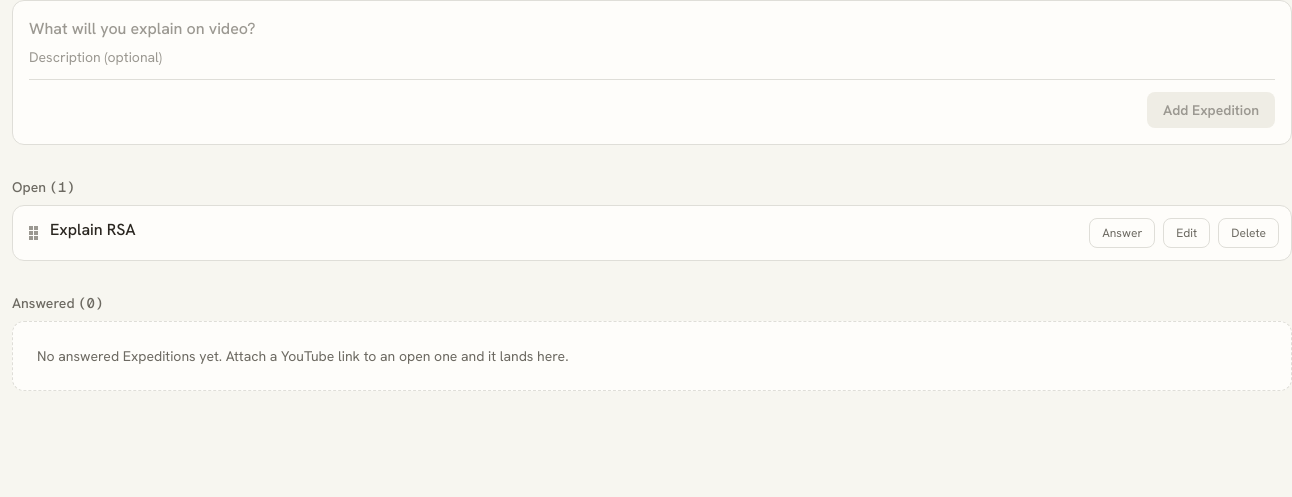
answering an Expedition › keeps the item open and shows the error when the URL is rejected
The image size is (1292, 497).
Click the button "Answer" at (1122, 233), box [1089,218,1155,248]
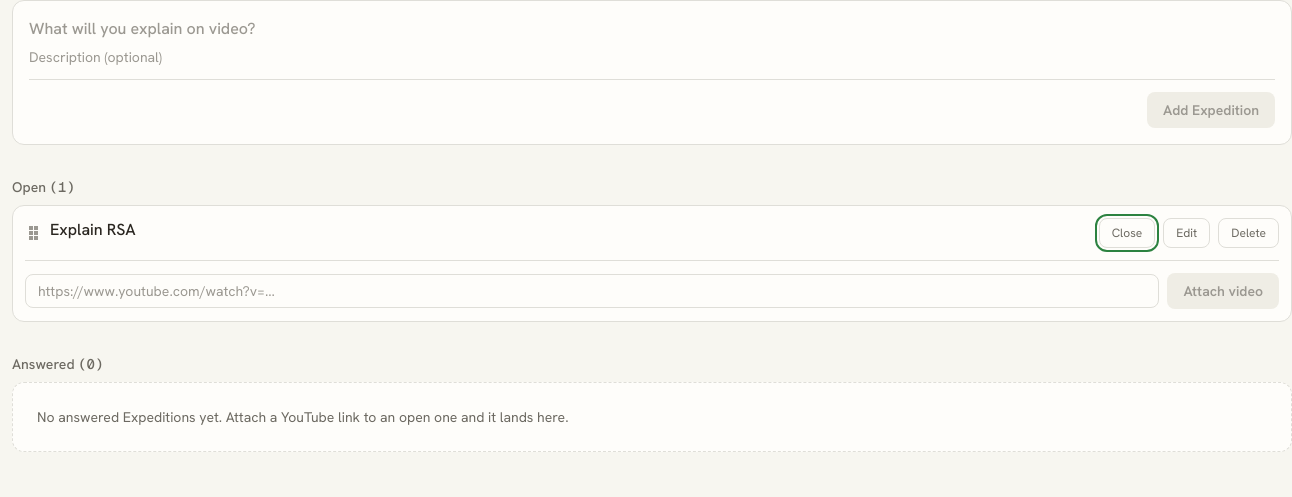
Type "https://vimeo.com/123456" into the field named "YouTube link for Explain RSA" at (592, 291), box [25,274,1160,308]
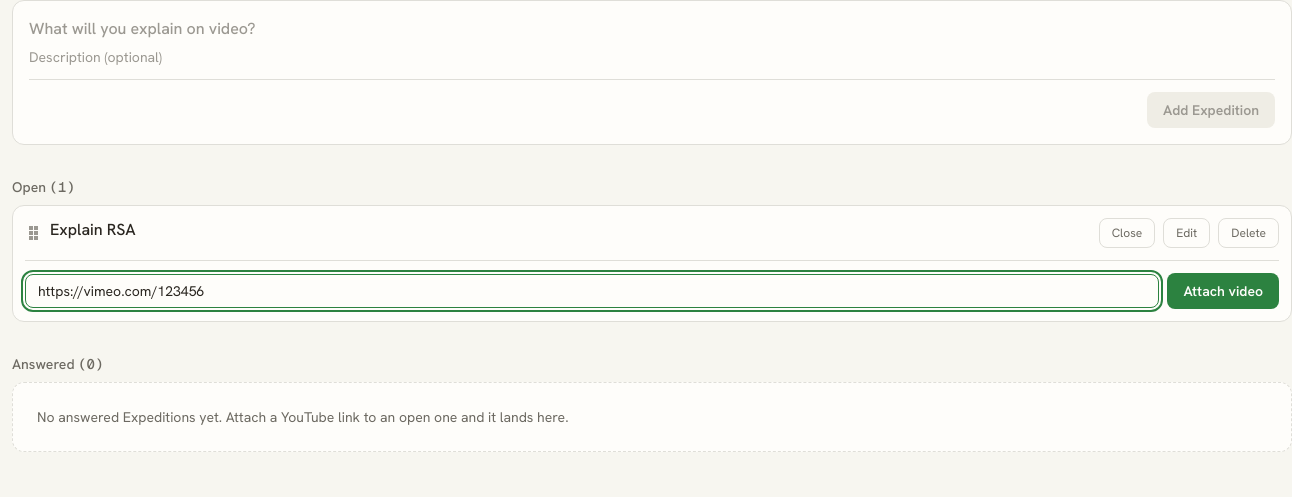
Click the button "Attach video" at (1223, 291), box [1168,273,1279,309]
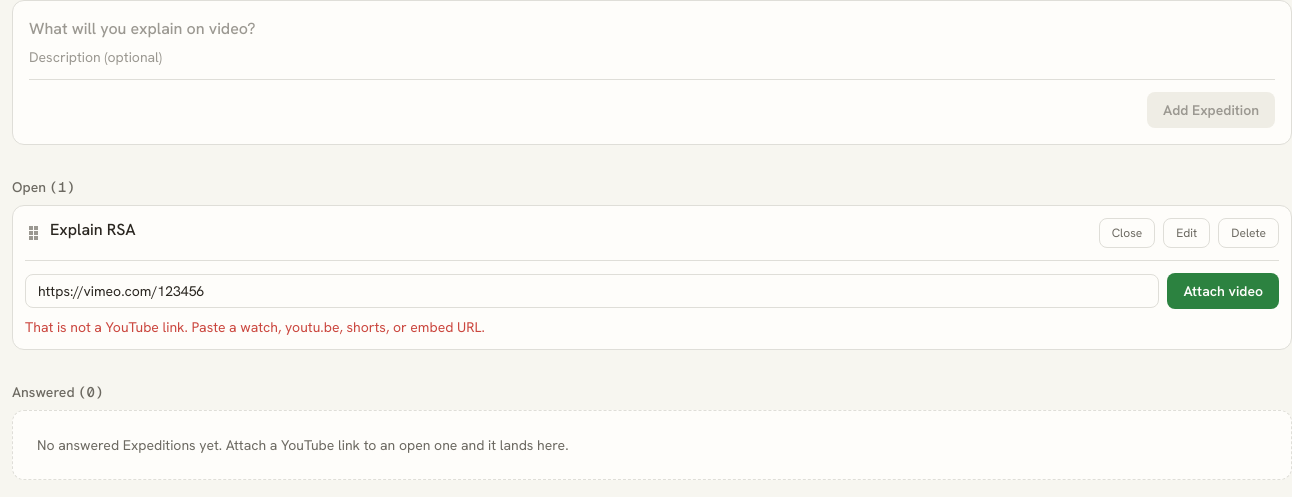
Expected: the message shows "not a YouTube link", [25,318,485,336]
